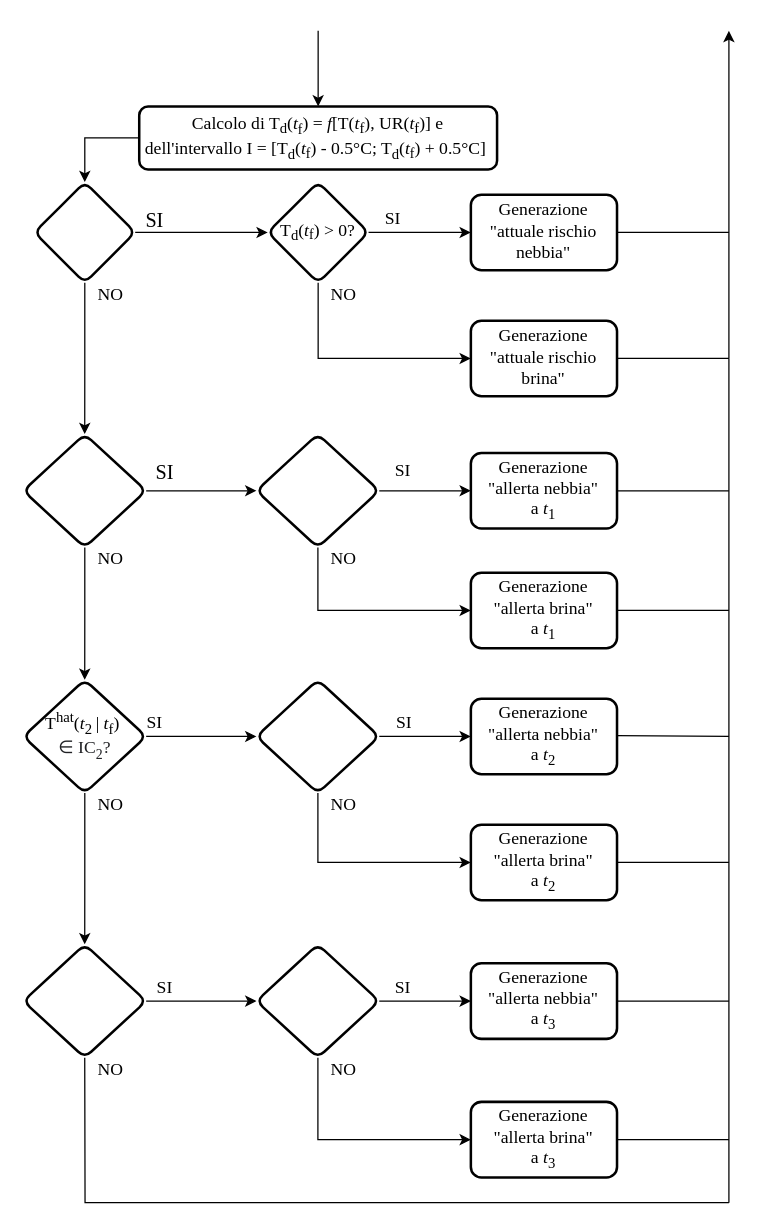
This 761x1226 diagram has some shape labels left out. The shapes that lost their labels are listed below. From the top down, each one's centre as x and y in pixels, then its label:
At point 84,232: "T ( t f ) ∈ I?".
At point 84,490: "T hat ( t 1 | t f ) ∈ IC 1 ?".
At point 317,490: "T hat d ( t 1 | t f ) > 0?".
At point 317,736: "T hat d ( t 2 | t f ) > 0?".
At point 84,1000: "T hat ( t 3 | t f ) ∈ IC 3 ?".
At point 317,1000: "T hat d ( t 3 | t f ) > 0?".
